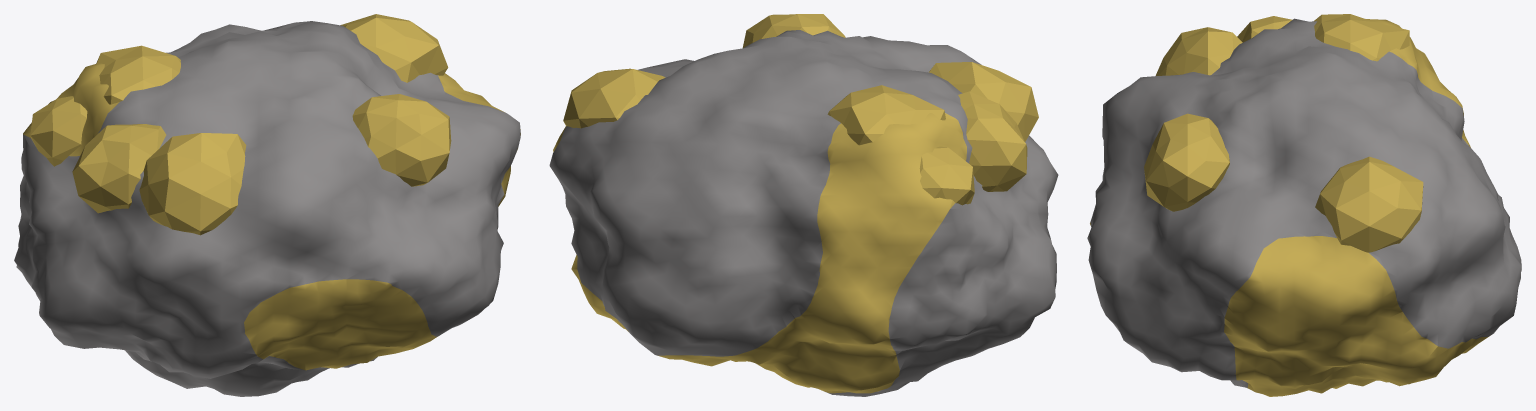
File: yellow_limonite_surface.glb
3 renders of one model, left to right at view 1: azimuth 30°, elevation 25°; view 2: azimuth 150°, elevation 25°; view 3: azimuth 270°, elevation 25°, orthographic. The views are drawn at different scales.
Parts seen in each view (by area): view 1: yellow_limonite_surface; view 2: yellow_limonite_surface; view 3: yellow_limonite_surface.
Boxes of the visible parts, x1,y1,x2,y2 form: yellow_limonite_surface: (14, 14, 520, 396); yellow_limonite_surface: (549, 14, 1058, 396); yellow_limonite_surface: (1087, 14, 1521, 396).
Bounding box in the file's own units: 1.17 × 0.7858 × 0.9738.
